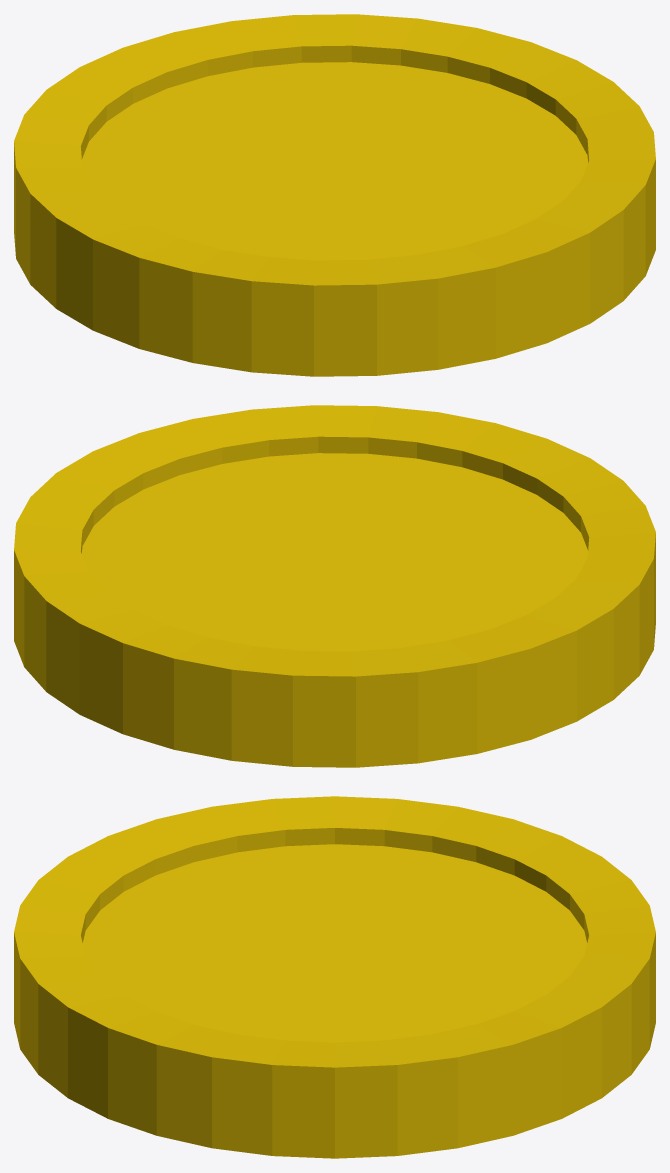
File: Coin.fbx
3 views of the same model, one above another, from view 1: azimuth 30°, elevation 25°; view 2: azimuth 150°, elevation 25°; view 3: azimuth 270°, elevation 25° (orthographic).
Visible parts, largest first — view 1: Coin; view 2: Coin; view 3: Coin.
Part boxes in pixels (x1=…): Coin: x1=14, y1=14, x2=655, y2=376; Coin: x1=14, y1=405, x2=655, y2=767; Coin: x1=14, y1=796, x2=655, y2=1158.
Bounding box in the file's own units: 200 × 31.29 × 200.
